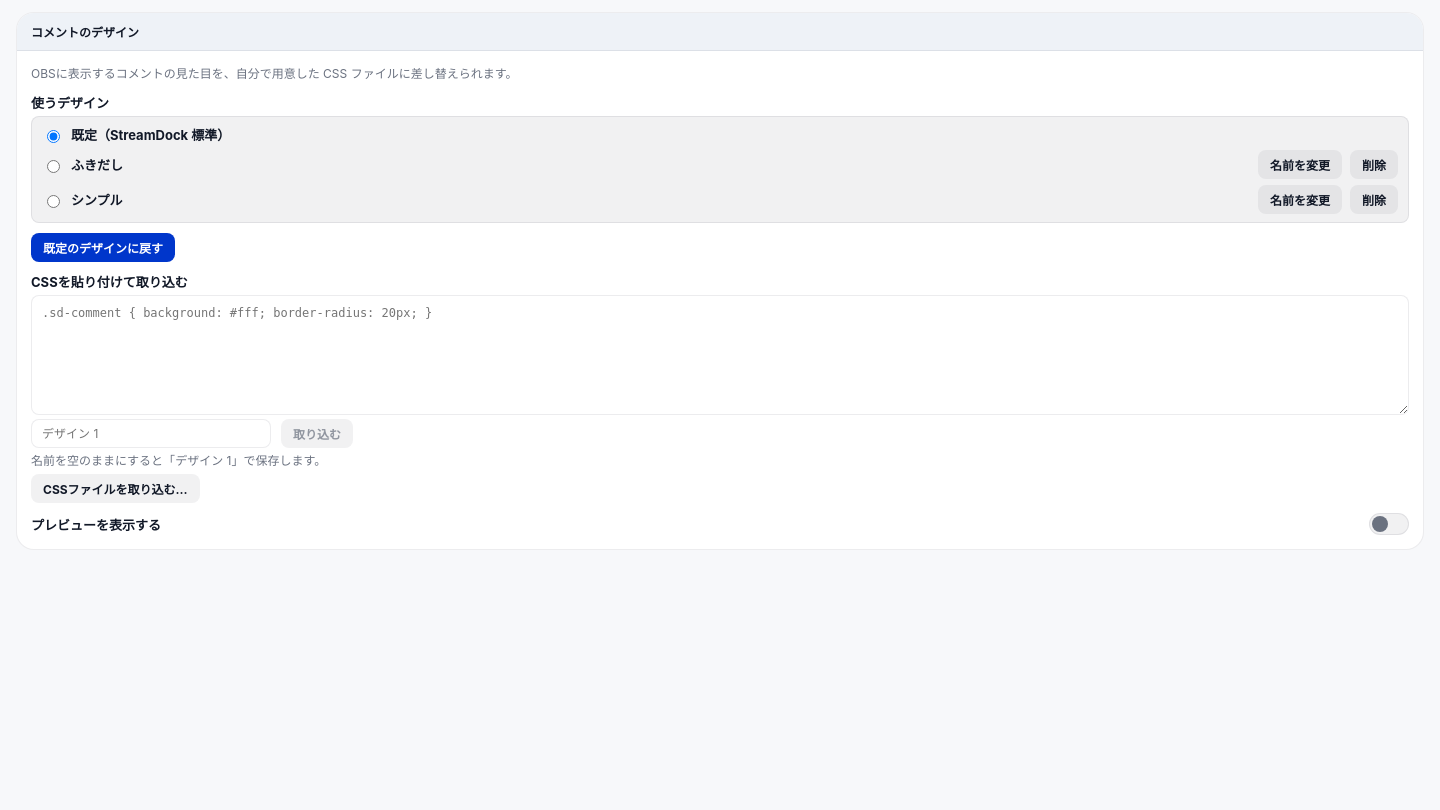
Test case: 取り込み › ファイル名から初期値を入れ、パスは画面に出さない（§9）
Expected: the radio button labelled "ふきだし" is shown, x1=47 y1=160 x2=60 y2=172
Click the button "CSSファイルを取り込む…": coordinates (115, 488) x1=31 y1=474 x2=200 y2=503
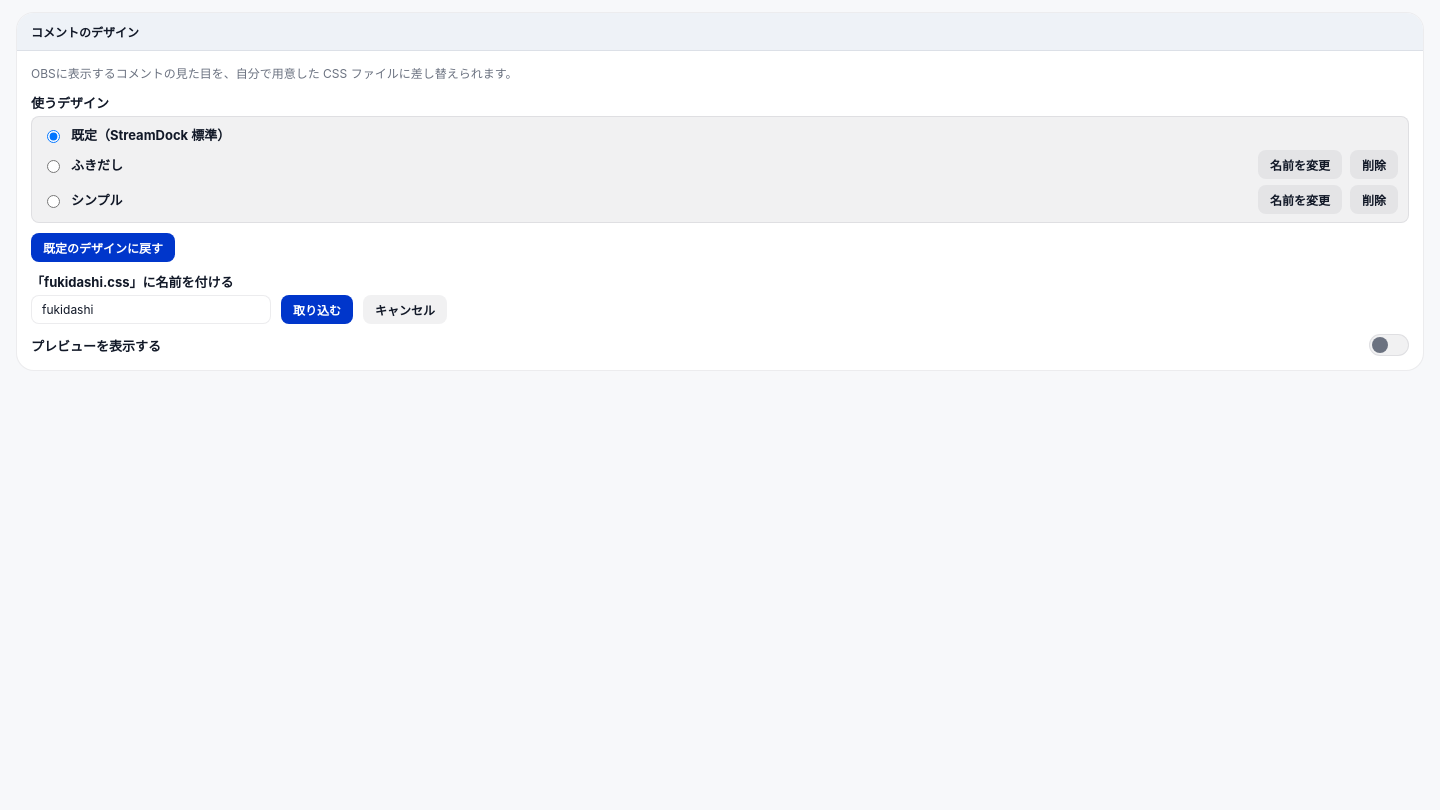
Now the text "「fukidashi.css」に名前を付ける" is shown, box x1=31 y1=274 x2=234 y2=290
Now the field named "デザインの名前" holds "fukidashi", box x1=31 y1=295 x2=271 y2=324
